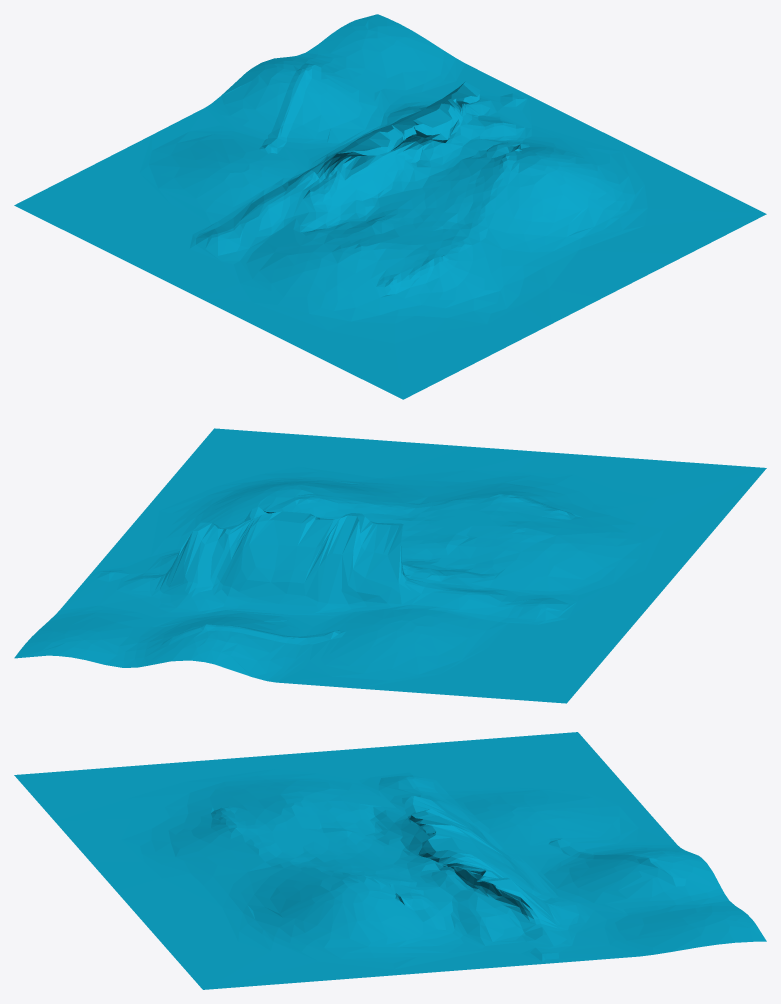
Rendered from Wave.glb.
The picture shows the model from 3 angles, top to bottom: view 1: azimuth 30°, elevation 25°; view 2: azimuth 150°, elevation 25°; view 3: azimuth 270°, elevation 25°; orthographic projection. The views are drawn at different scales.
Visible parts, largest first — view 1: Plane007; view 2: Plane007; view 3: Plane007.
Boxes of the visible parts, x1,y1,x2,y2 form: Plane007: (14,14,766,399); Plane007: (14,428,766,703); Plane007: (14,732,766,989).
Size of the model in its own units: 3564014 by 370579 by 4396610.
